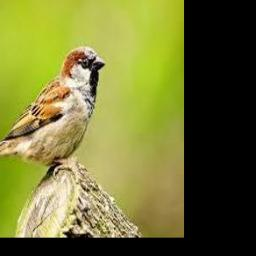Sparrow: (0, 45, 106, 179)
